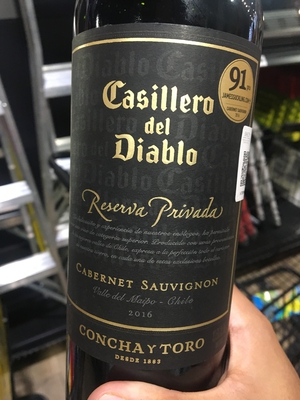casillero del diablo reserva privada cabernet sauvignon: (66, 11, 264, 400)
